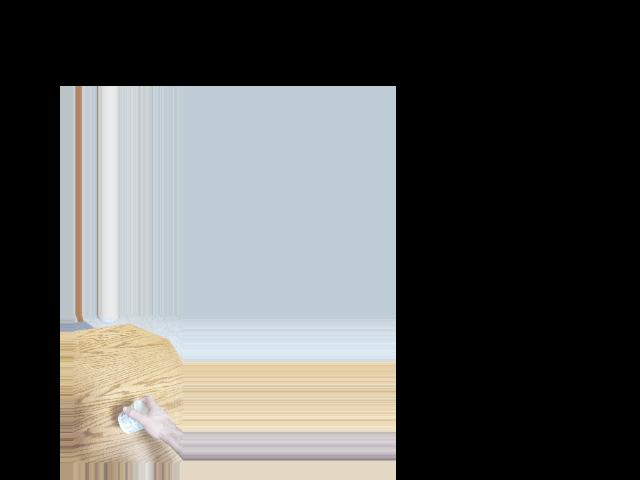cotage: (118, 399, 147, 431)
